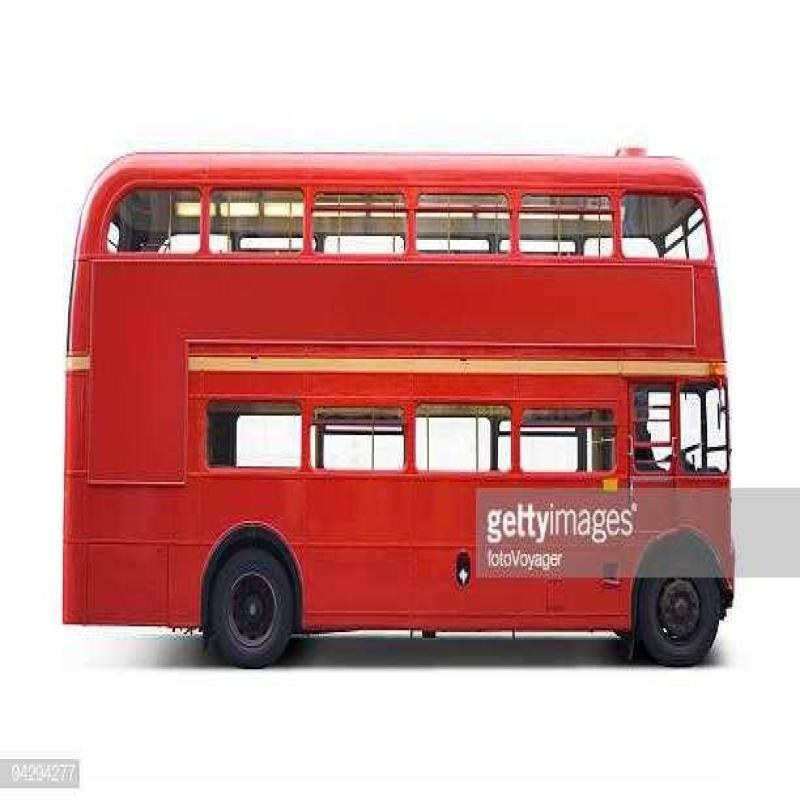bus: (48, 116, 743, 669)
